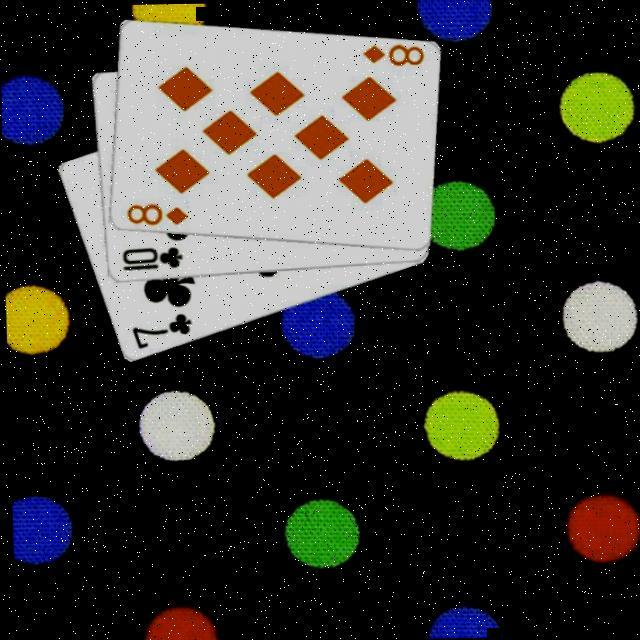10C: (115, 242, 182, 272)
7C: (124, 308, 192, 350)
8D: (356, 38, 424, 68), (120, 197, 187, 226)
